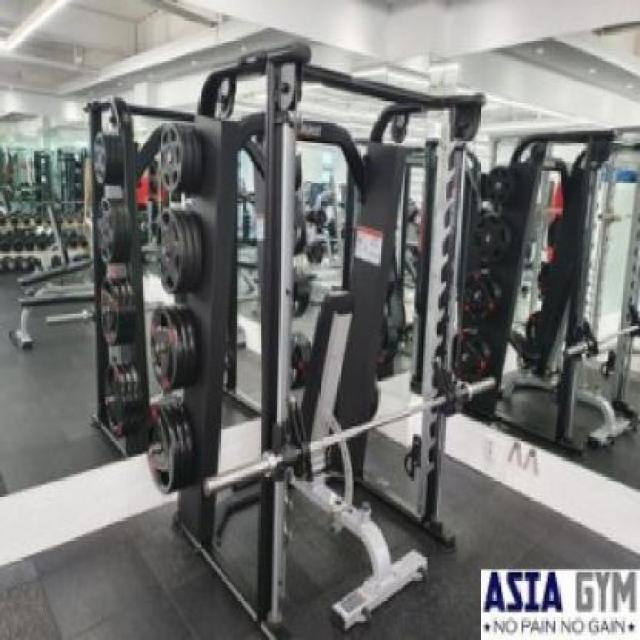smith machine: (154, 43, 478, 640)
